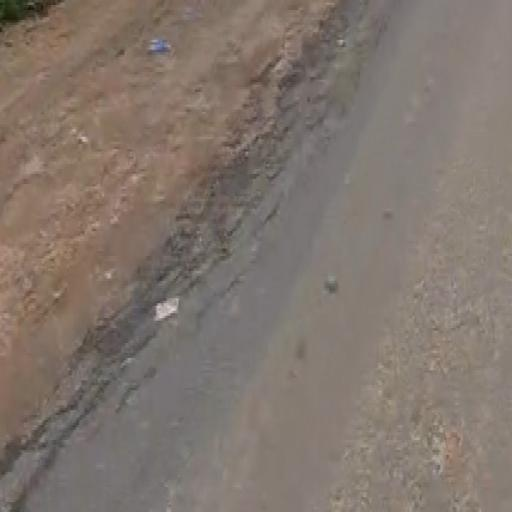edge_damage: (24, 55, 336, 424)
